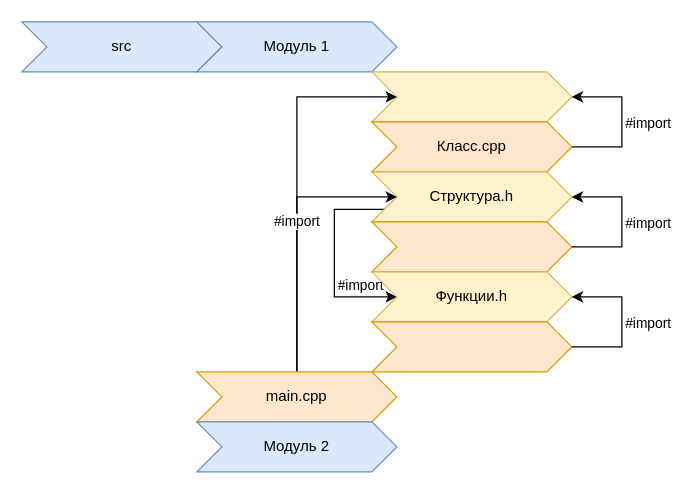
Image size: 693x494. Some labels were removed from this diagram. The box of each missing label's shape, as (x1, y1, x2, y2) in pixels:
Класс.h: (371, 71, 572, 122)
Структура.cpp: (371, 221, 572, 272)
Функции.cpp: (371, 321, 572, 372)
